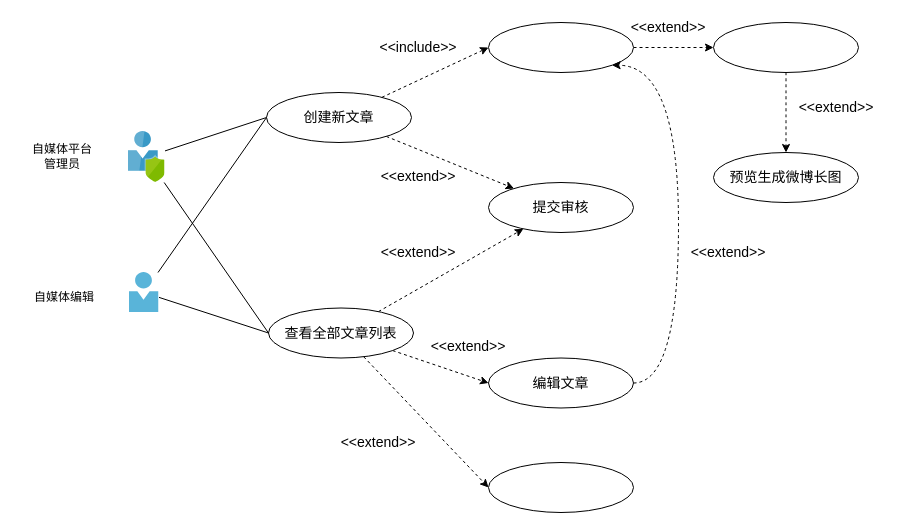
Image size: 903x530. Some labels were removed from this diagram. Here are the shapes that lost their labels. From the top down, the box of each, then its label:
(488, 22, 634, 72): 保存文章为草稿
(712, 22, 858, 72): 预览文章发布效果
(488, 462, 634, 512): 水印设置
